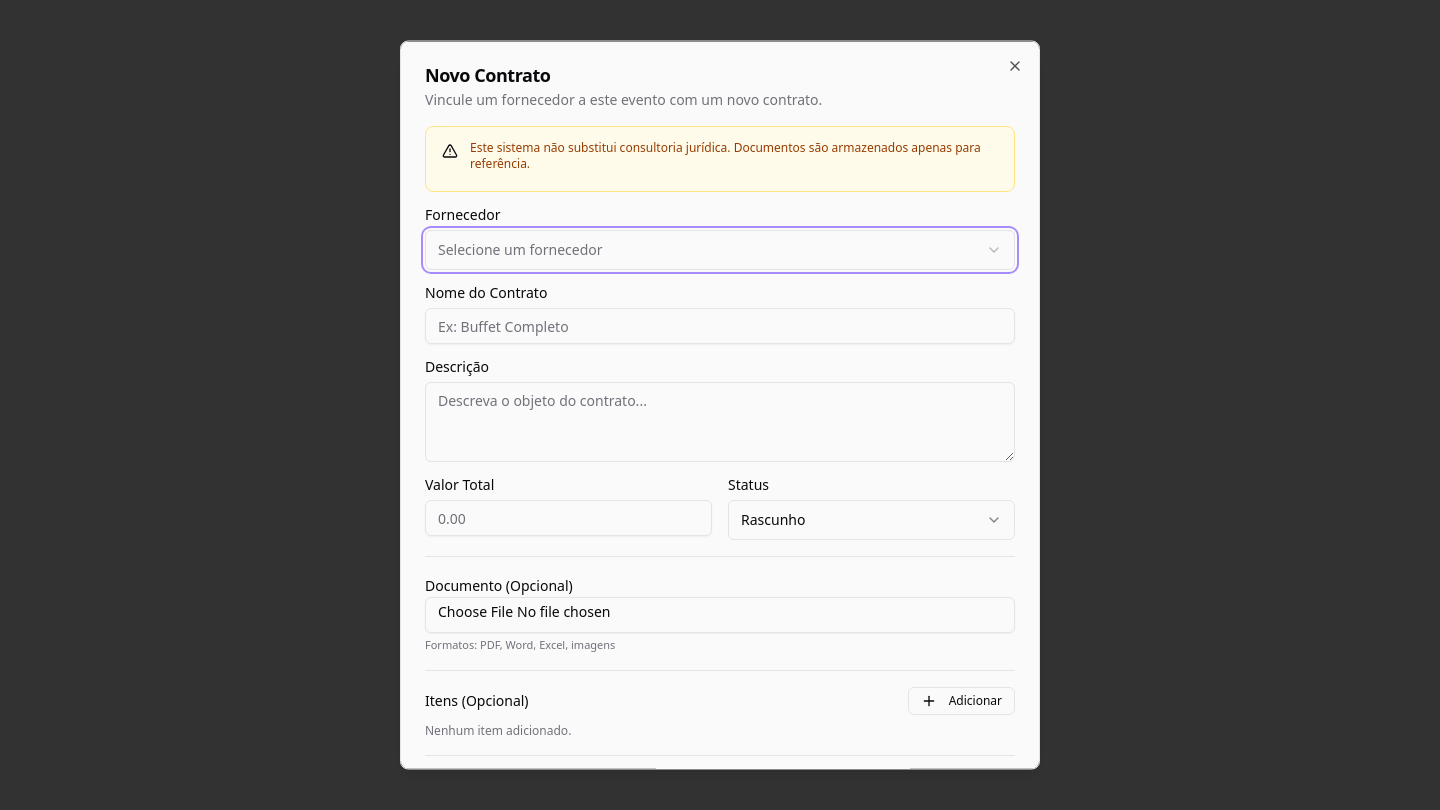
ContractUploadDialog › shows loading state while creating
The image size is (1440, 810).
Click the dropdown labelled "Selecione um fornecedor" at (520, 249), box [425,230,1015,270]
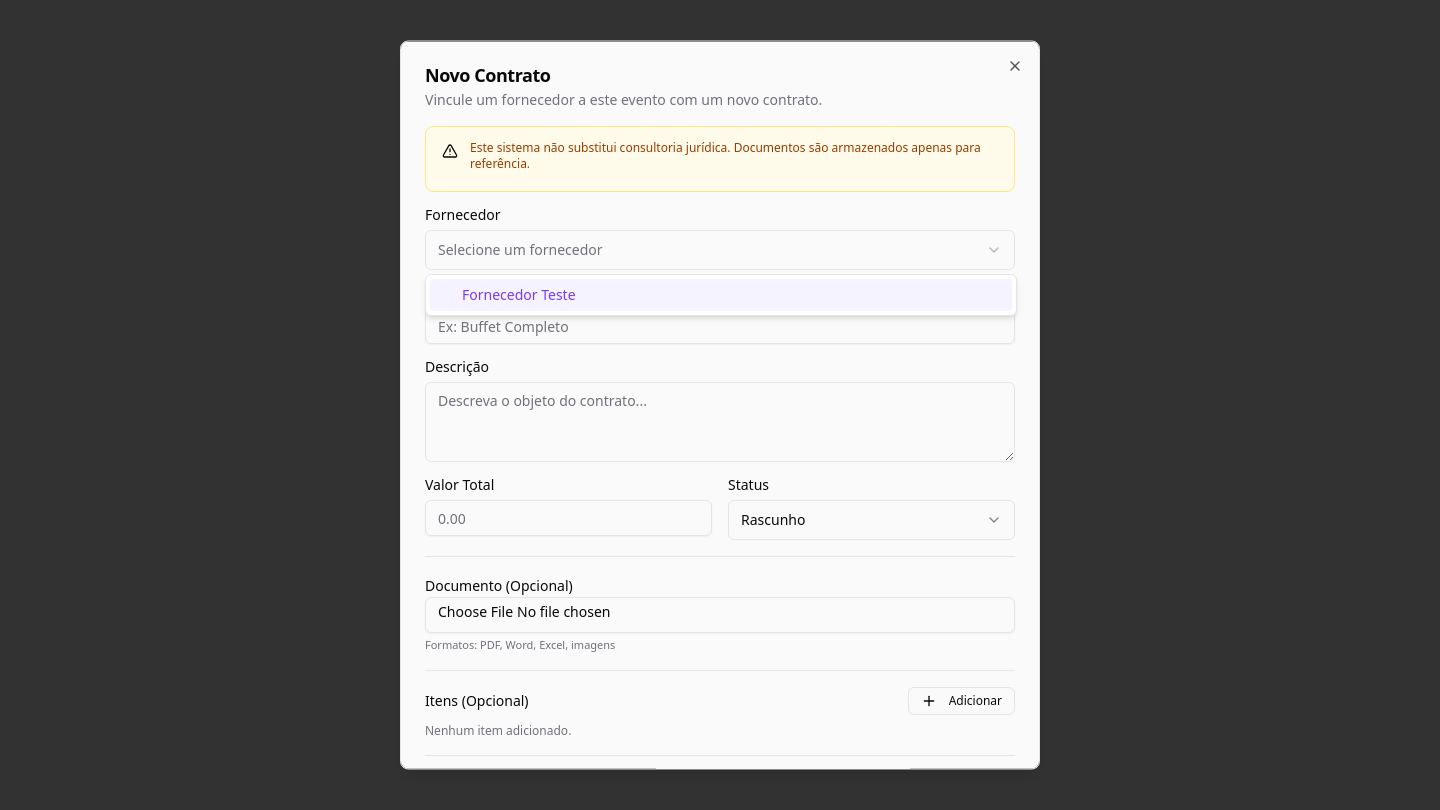
Click the option "Fornecedor Teste" at (519, 294), box [430,279,1012,311]
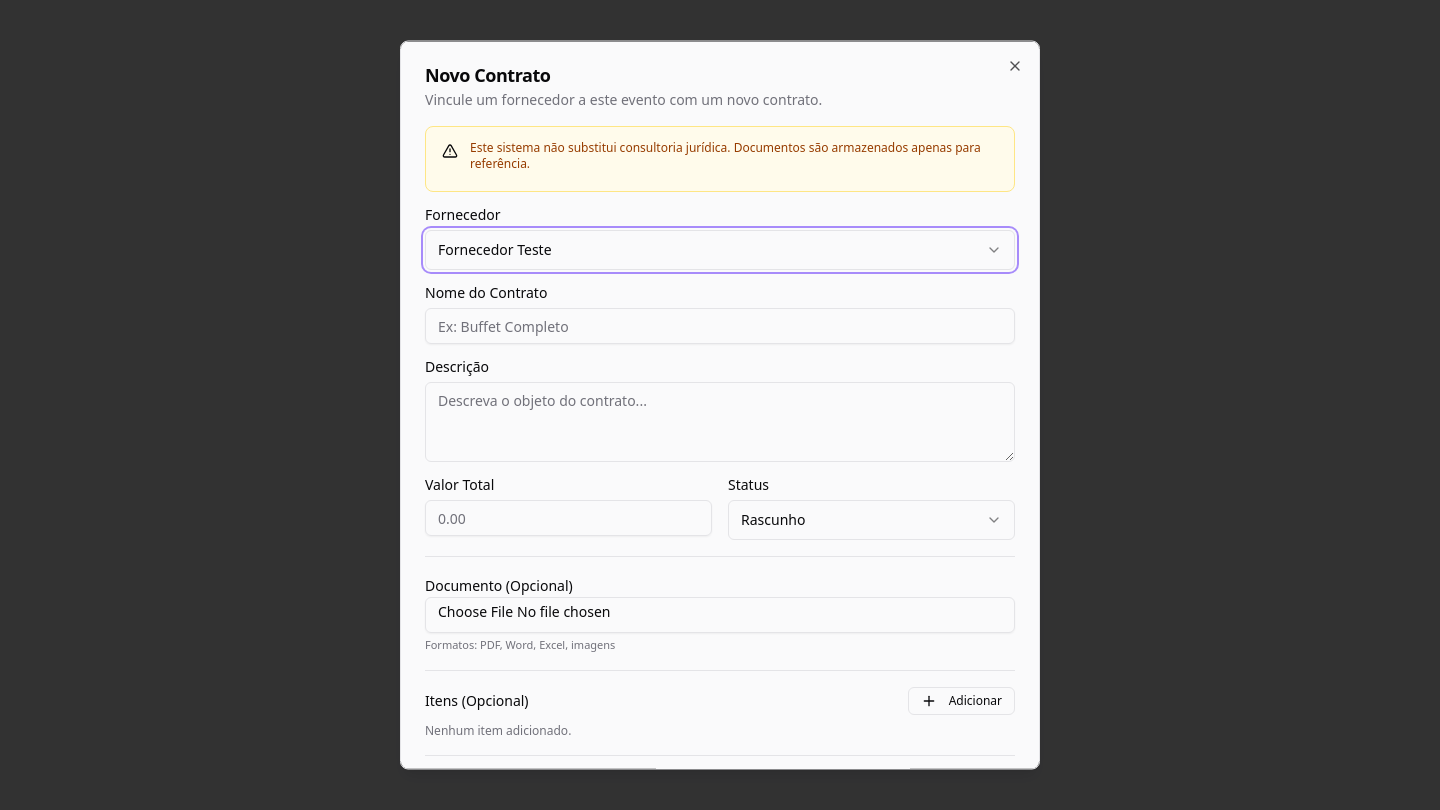
Type "Teste" into the field labelled "Nome do Contrato" at (720, 326), box [425,308,1015,344]
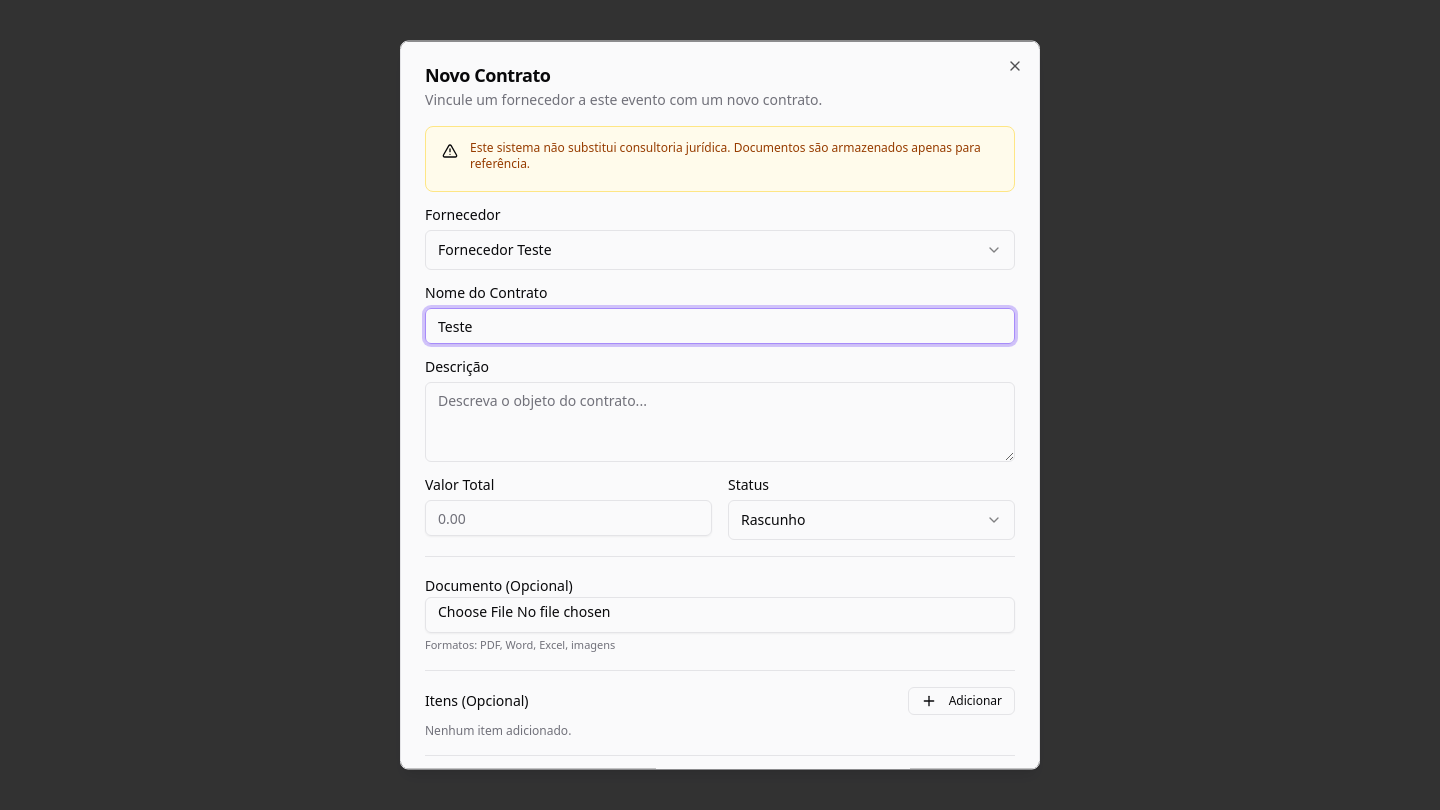
Type "1000" into the number field labelled "Valor Total" at (568, 518), box [425,500,712,536]
(page scrolled)
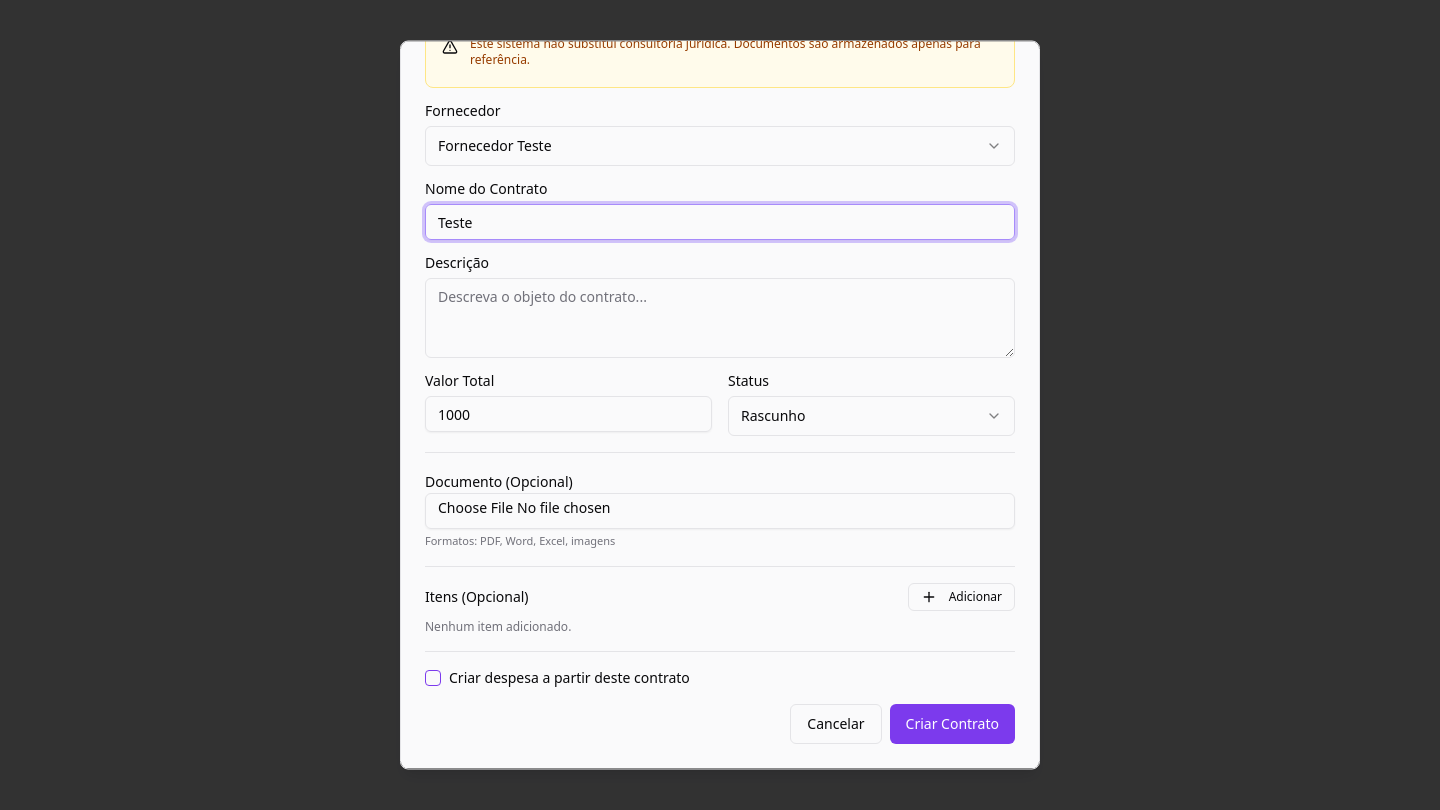
Click the button "Criar Contrato" at (952, 724), box [890,704,1015,744]
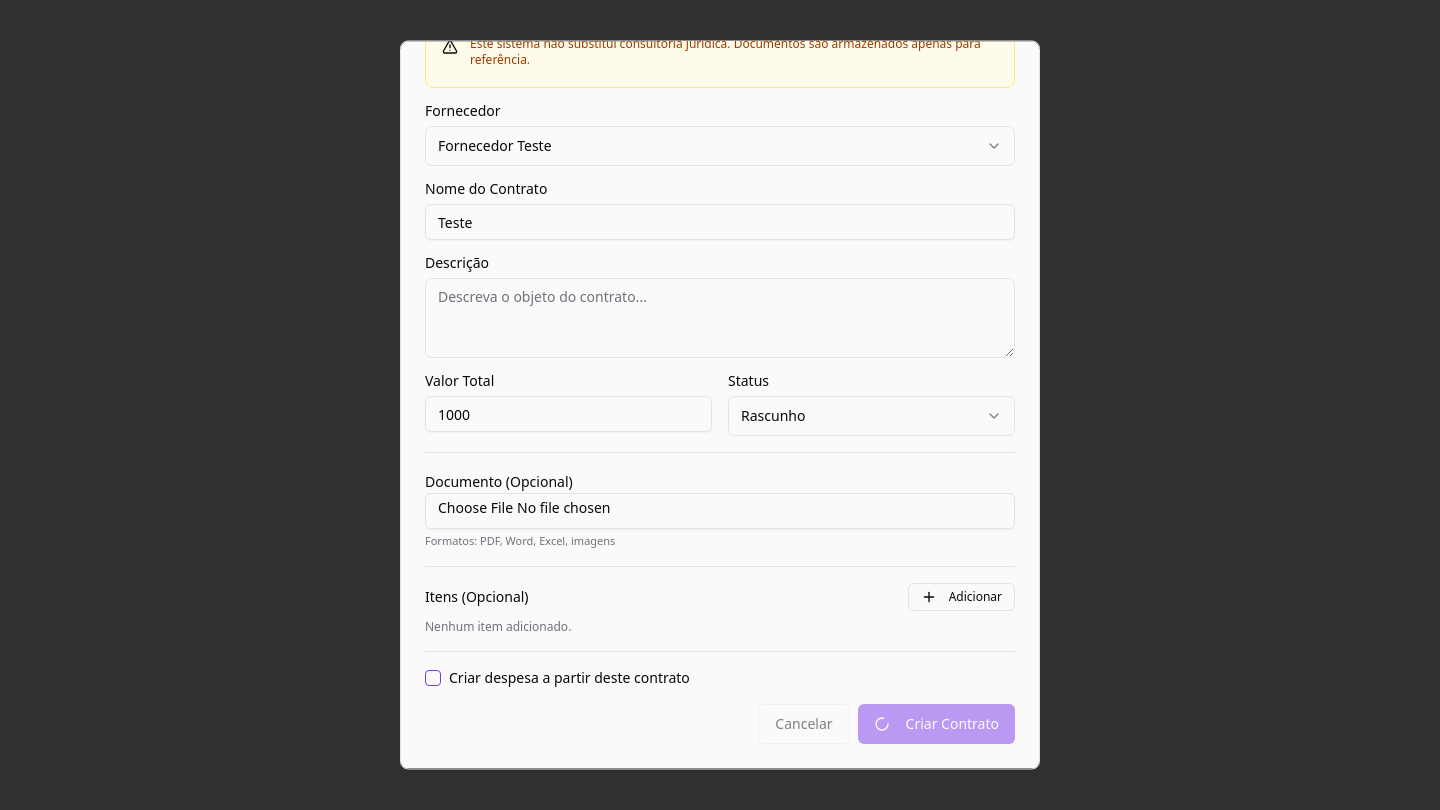
Expected: the button "Criar Contrato" is disabled, [858,704,1015,744]
Expected: the button "Cancelar" is disabled, [758,704,850,744]
